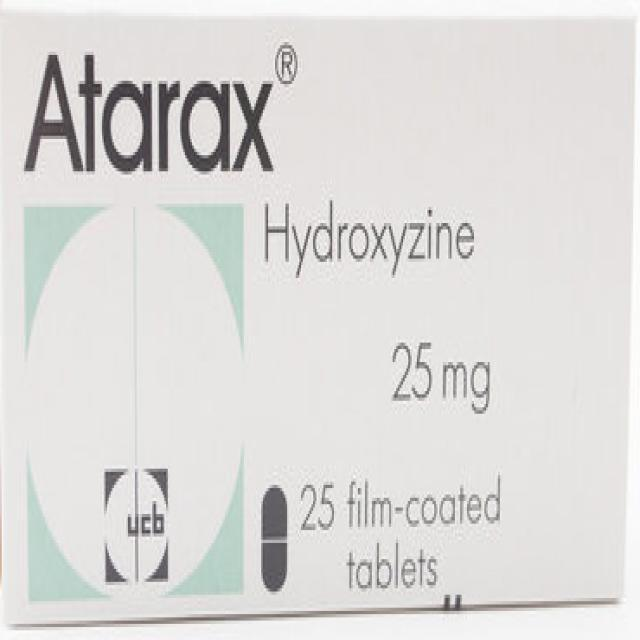drug-name: (22, 52, 280, 180)
